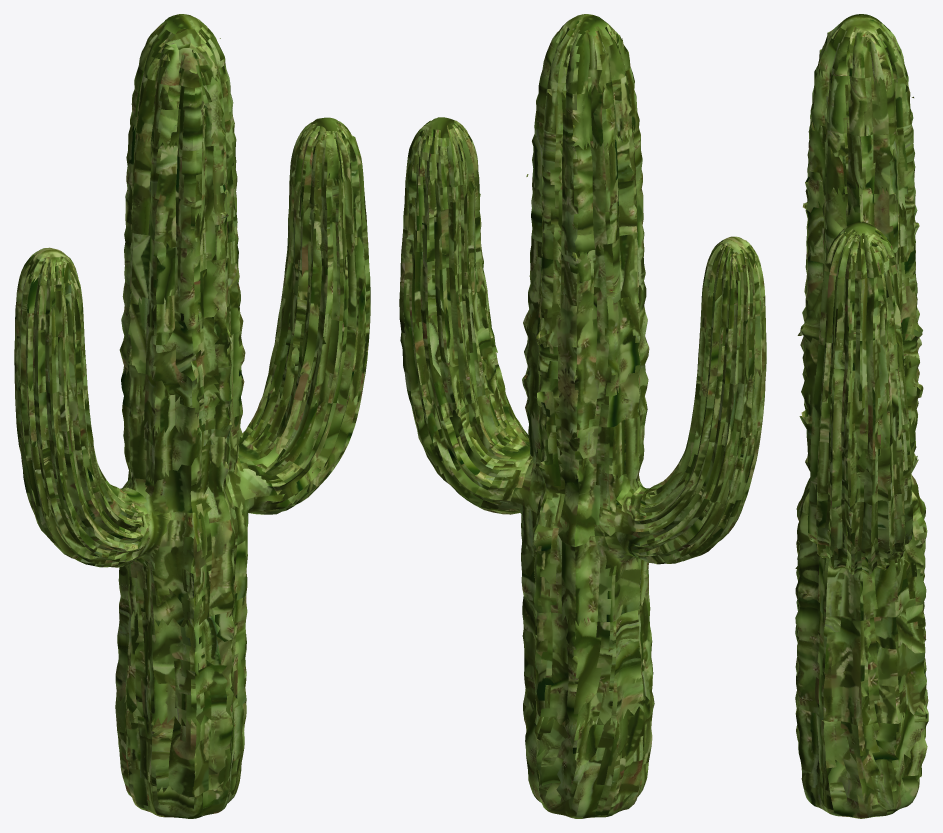
Rendered from veg_succulent_saguaro_01.obj.
The picture shows the model from 3 angles, left to right: view 1: azimuth 30°, elevation 25°; view 2: azimuth 150°, elevation 25°; view 3: azimuth 270°, elevation 25°; orthographic projection.
Parts seen in each view (by area): view 1: veg_succulent_saguaro_01; view 2: veg_succulent_saguaro_01; view 3: veg_succulent_saguaro_01.
Part boxes in pixels (left/top/right/bottom): veg_succulent_saguaro_01: left=14, top=14, right=370, bottom=818; veg_succulent_saguaro_01: left=399, top=14, right=766, bottom=818; veg_succulent_saguaro_01: left=795, top=14, right=928, bottom=818.
Size of the model in its own units: 18.09 by 38.83 by 6.
Materials: 1 (1 with a texture image).
